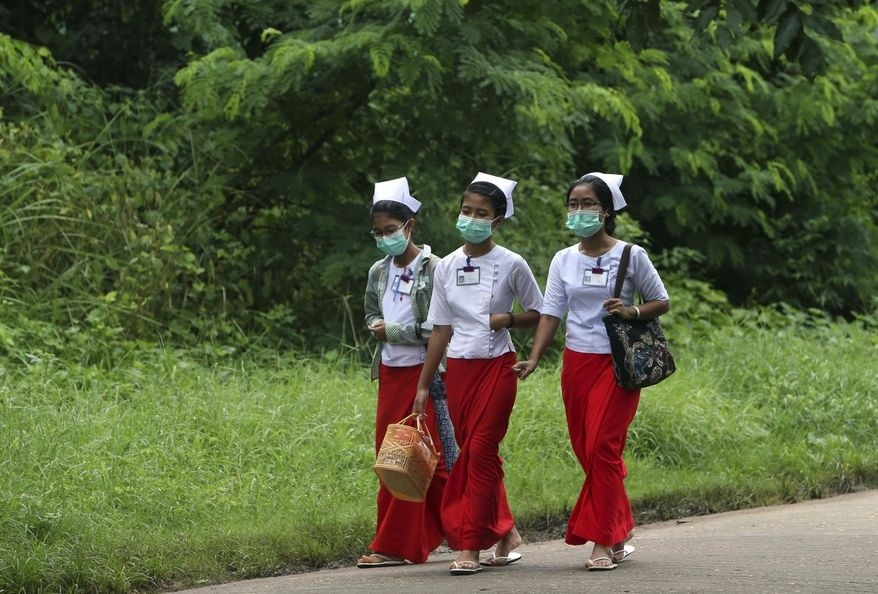face_with_mask: (361, 208, 412, 267), (559, 184, 605, 247), (449, 195, 495, 256)
